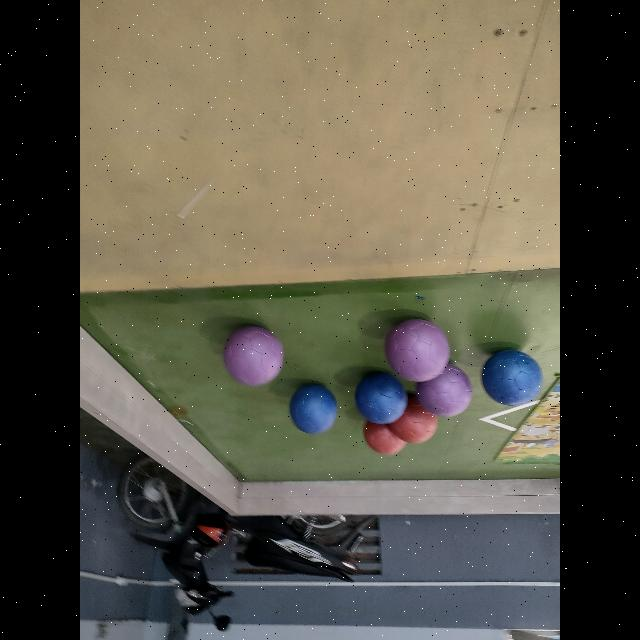B: (482, 350, 542, 406), (355, 374, 407, 424), (290, 384, 338, 434)
P: (386, 320, 450, 382), (224, 326, 284, 386), (414, 361, 470, 419)
R: (388, 396, 438, 444), (362, 416, 402, 454)
